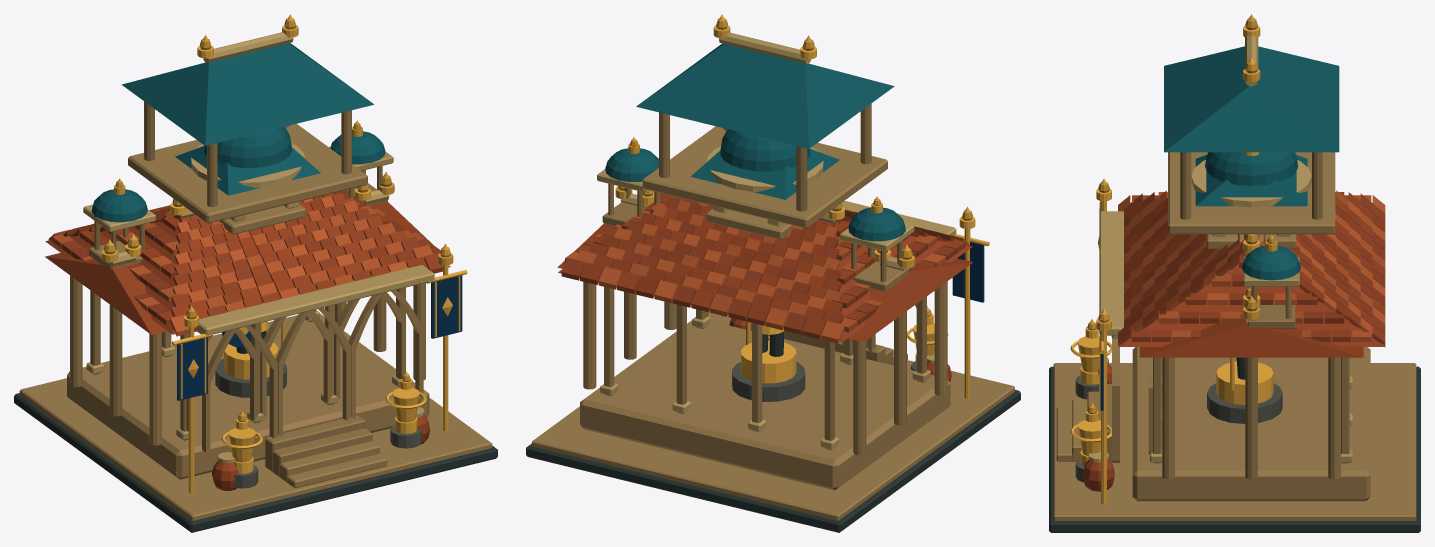
3 renders of one model, left to right at view 1: azimuth 30°, elevation 25°; view 2: azimuth 150°, elevation 25°; view 3: azimuth 270°, elevation 25°, orthographic. The views are drawn at different scales.
Visible parts, largest first — view 1: hero_hall_level7_structure, hero_hall_level7_metal; view 2: hero_hall_level7_structure, hero_hall_level7_metal; view 3: hero_hall_level7_structure, hero_hall_level7_metal.
Boxes of the visible parts, left/top/right/bottom form: hero_hall_level7_structure: left=14, top=18, right=497, bottom=532; hero_hall_level7_metal: left=101, top=14, right=467, bottom=493; hero_hall_level7_structure: left=526, top=18, right=1020, bottom=532; hero_hall_level7_metal: left=615, top=14, right=989, bottom=398; hero_hall_level7_structure: left=1049, top=18, right=1420, bottom=532; hero_hall_level7_metal: left=1070, top=14, right=1277, bottom=504.
Bounding box in the file's own units: 5.6 × 6.97 × 5.6.
